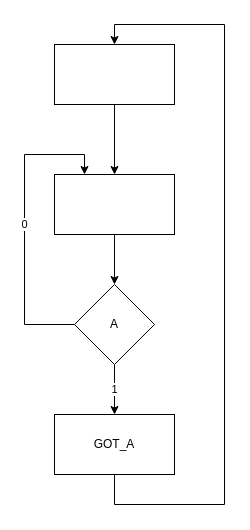
Image size: 250x530. Some labels were removed from this diagram. The shapes that lost their labels are listed below. From the top down, each one's box as (x1, y1, x2, y2) in pixels, then its label:
(54, 44, 174, 104): IDLE
(54, 174, 174, 234): SCAN
